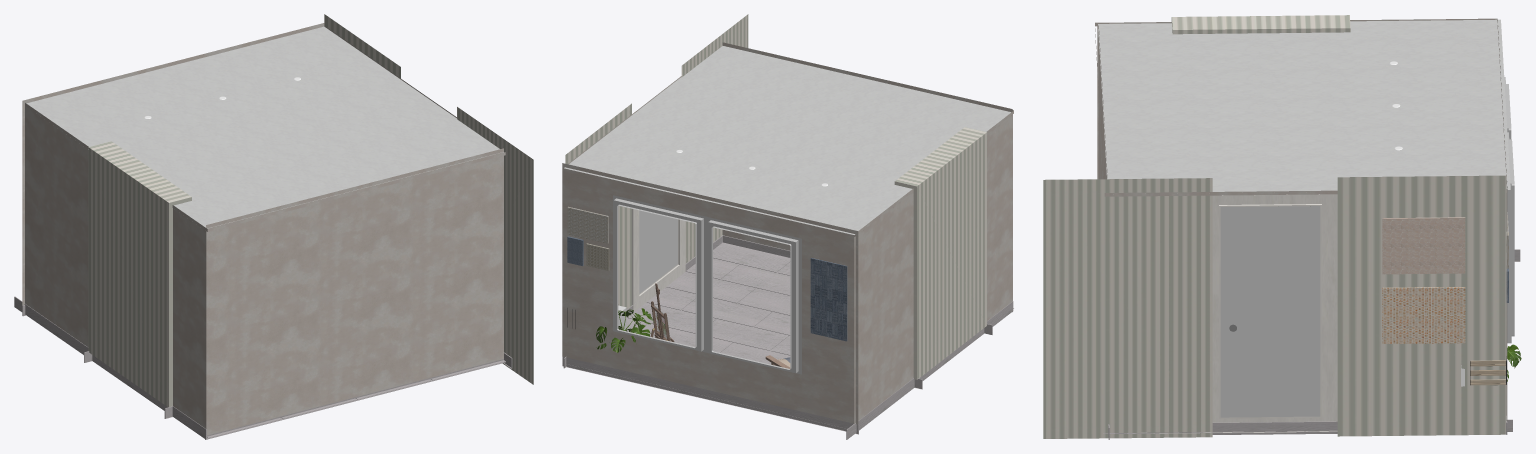
File: roomModel.glb
3 renders of one model, left to right at view 1: azimuth 30°, elevation 25°; view 2: azimuth 150°, elevation 25°; view 3: azimuth 270°, elevation 25°, orthographic. The views are drawn at different scales.
Parts seen in each view (by area): view 1: wall_back, ceiling, wall_left_accent, wall_left_main, floor; view 2: ceiling, wall_left_main, wall_left_accent, floor, window_border, wall_art_8, wall_back, door_pane, door_frame, wall_art_7, Leaves, wall_art_6 (+1 smaller); view 3: wall_left_accent, ceiling, door_pane, door_frame, 1_frame, 2_frame, wall_back, floor, window_border, wall_left_main, Object_8.003.
Boxes of the visible parts, x1,y1,x2,y2 form: wall_back: [25, 26, 505, 435]; ceiling: [26, 26, 503, 228]; wall_left_accent: [88, 14, 533, 407]; wall_left_main: [22, 23, 324, 428]; floor: [14, 296, 512, 439]; ceiling: [564, 46, 1010, 234]; wall_left_main: [562, 114, 1012, 424]; wall_left_accent: [565, 14, 986, 379]; floor: [562, 235, 1013, 439]; window_border: [613, 195, 801, 374]; wall_art_8: [567, 236, 847, 341]; wall_back: [565, 42, 1013, 250]; door_pane: [639, 210, 677, 293]; door_frame: [631, 209, 685, 311]; wall_art_7: [567, 206, 608, 243]; Leaves: [596, 308, 654, 352]; wall_art_6: [586, 243, 609, 270]; wall_left_accent: [1043, 15, 1506, 438]; ceiling: [1098, 19, 1510, 191]; door_pane: [1220, 206, 1320, 417]; door_frame: [1205, 194, 1337, 432]; 1_frame: [1382, 287, 1465, 343]; 2_frame: [1382, 217, 1465, 274]; wall_back: [1095, 18, 1507, 196]; floor: [1103, 249, 1520, 439]; window_border: [1504, 77, 1514, 343]; wall_left_main: [1097, 19, 1507, 420]; Object_8.003: [1470, 360, 1505, 385].
Size of the model in its own units: 4.24 by 2.84 by 4.75.
Materials: 80 (66 with a texture image).
